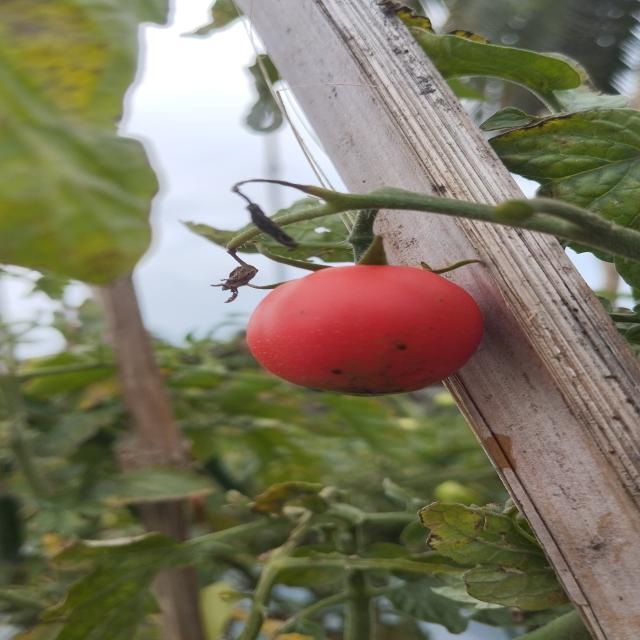Masak: (230, 242, 498, 403)
